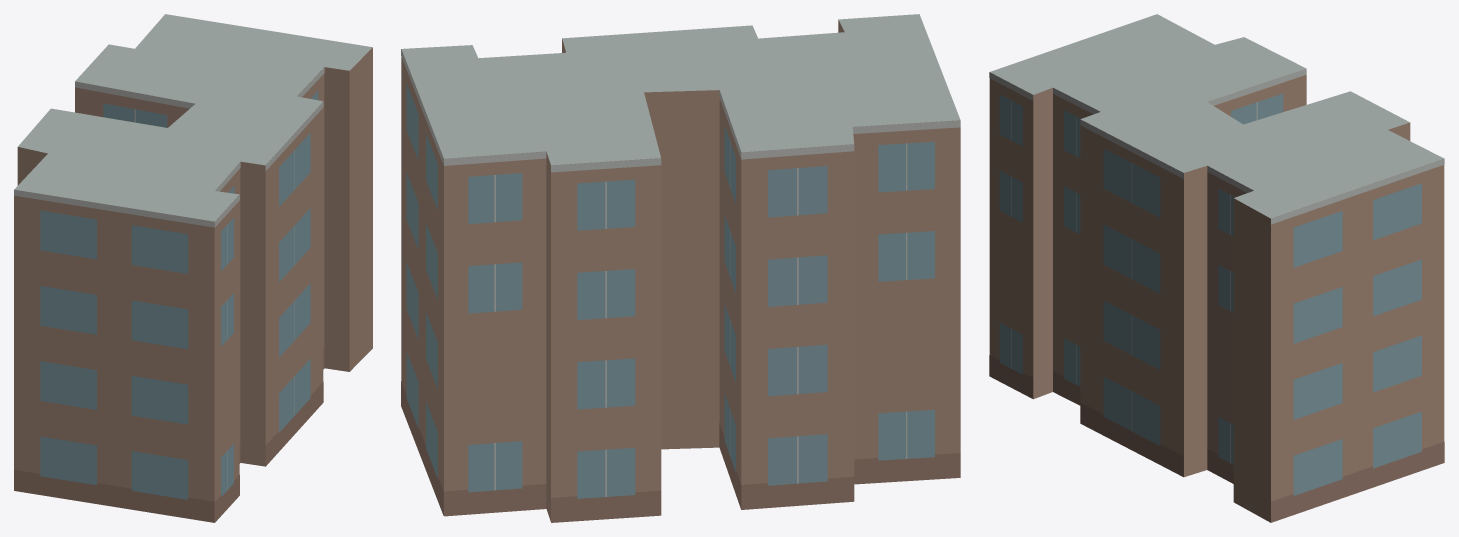
The model's file is survey-upis-33021136.glb.
The picture shows the model from 3 angles, left to right: view 1: azimuth 30°, elevation 25°; view 2: azimuth 150°, elevation 25°; view 3: azimuth 270°, elevation 25°; orthographic projection. The views are drawn at different scales.
Parts seen in each view (by area): view 1: survey-upis-33021136.tmp; view 2: survey-upis-33021136.tmp; view 3: survey-upis-33021136.tmp.
Part boxes in pixels (x1,y1,x2,y2): survey-upis-33021136.tmp: (14, 14, 372, 522); survey-upis-33021136.tmp: (401, 14, 960, 522); survey-upis-33021136.tmp: (989, 14, 1444, 522).
Size of the model in its own units: 17.6 by 12.2 by 16.54.
